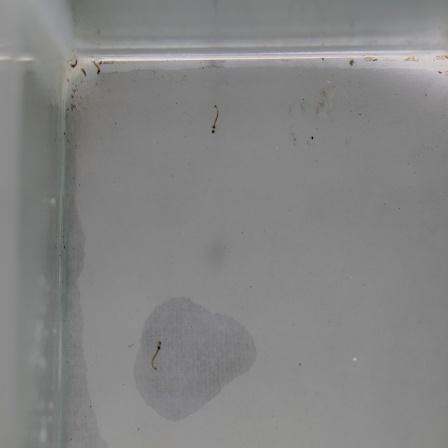Jentik-Nyamuk: (148, 338, 166, 375), (207, 99, 222, 140), (91, 57, 104, 79), (67, 57, 80, 71)
